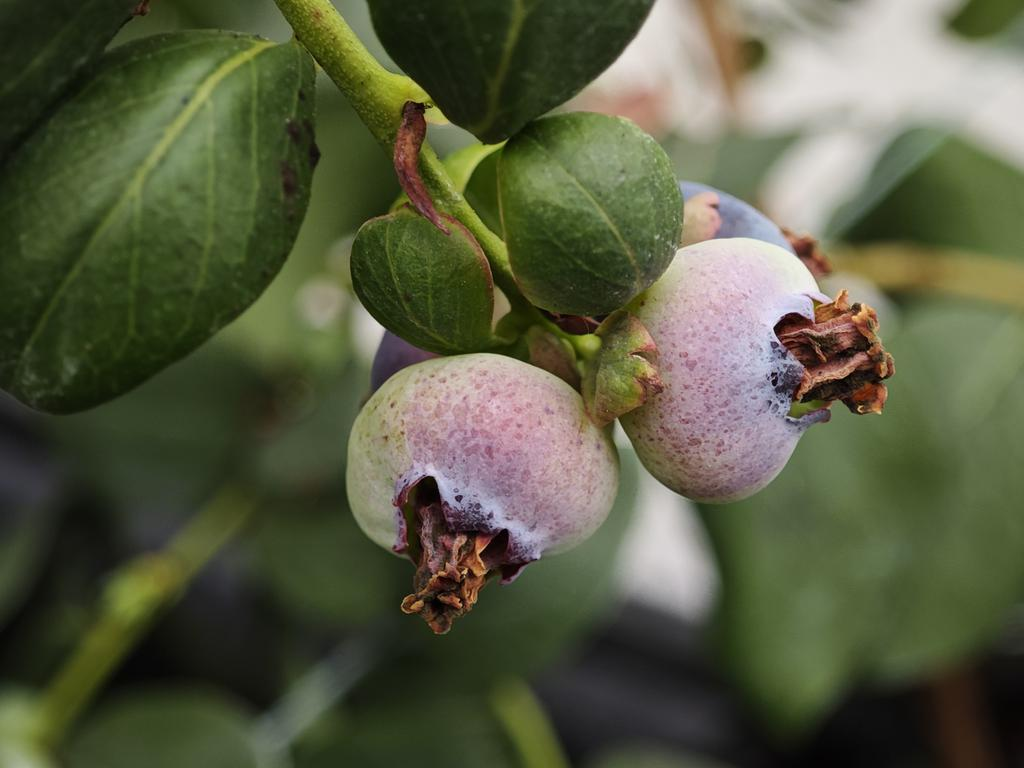Semi-RipeBlueBerry: (632, 233, 895, 508), (342, 345, 624, 599)
